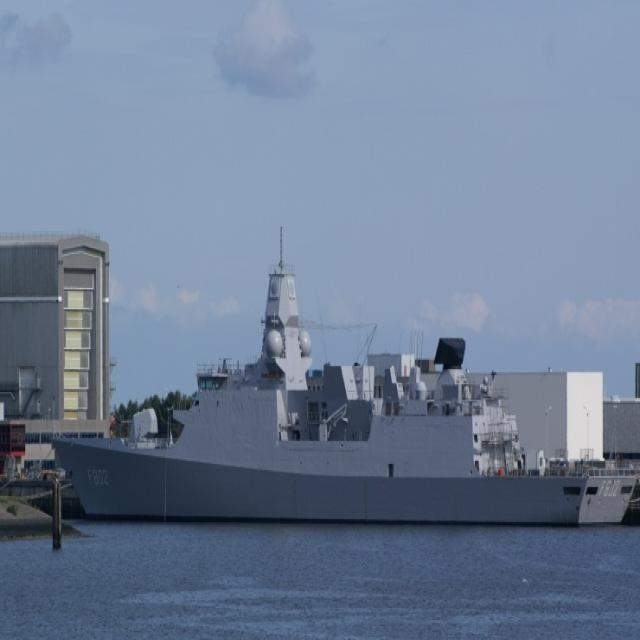Fragata: (49, 231, 640, 537)
